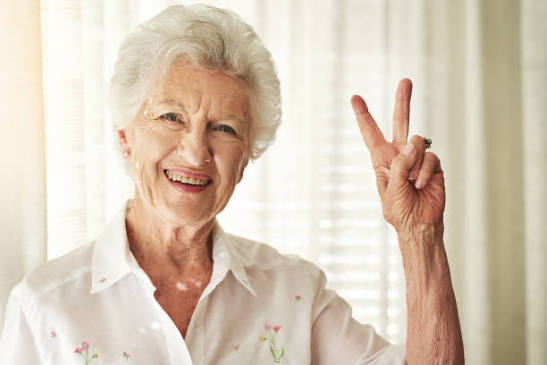peace_sign: (344, 74, 454, 230)
